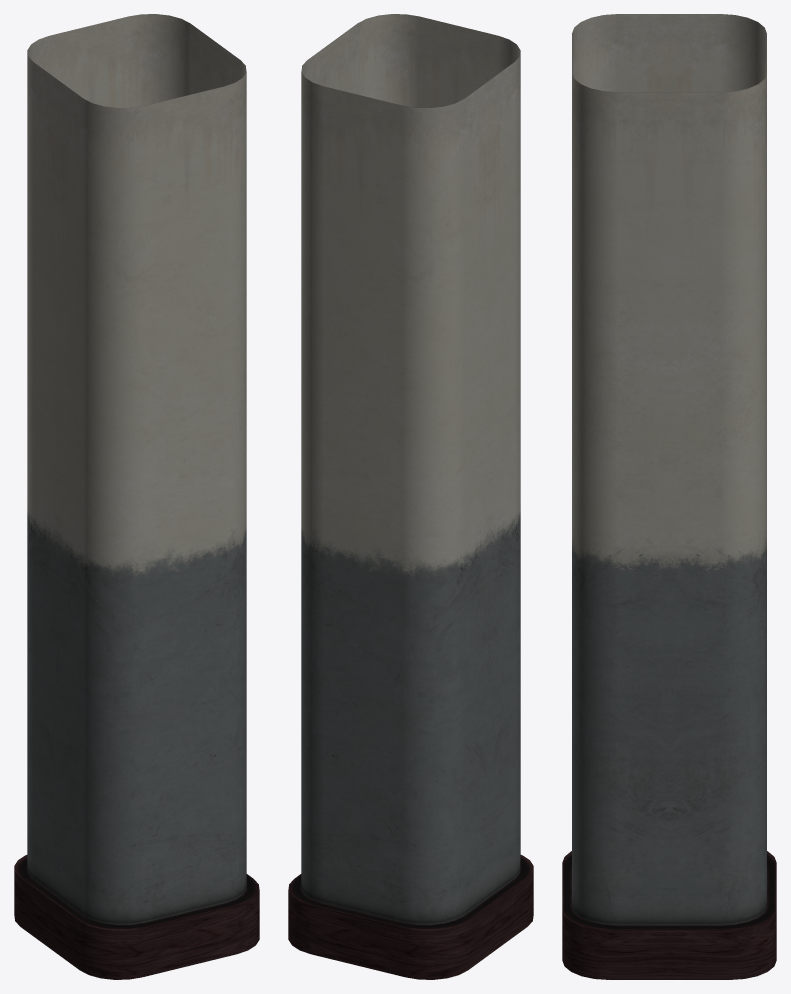
The model's file is Wall 4 Pillar 2.fbx.
3 renders of one model, left to right at view 1: azimuth 30°, elevation 25°; view 2: azimuth 150°, elevation 25°; view 3: azimuth 270°, elevation 25°, orthographic.
Parts seen in each view (by area): view 1: Wall_4_Pillar_2; view 2: Wall_4_Pillar_2; view 3: Wall_4_Pillar_2.
Boxes of the visible parts, x1=… form: Wall_4_Pillar_2: x1=14, y1=14, x2=259, y2=979; Wall_4_Pillar_2: x1=288, y1=14, x2=533, y2=979; Wall_4_Pillar_2: x1=562, y1=14, x2=776, y2=979.
Bounding box in the file's own units: 63 × 300 × 66.
